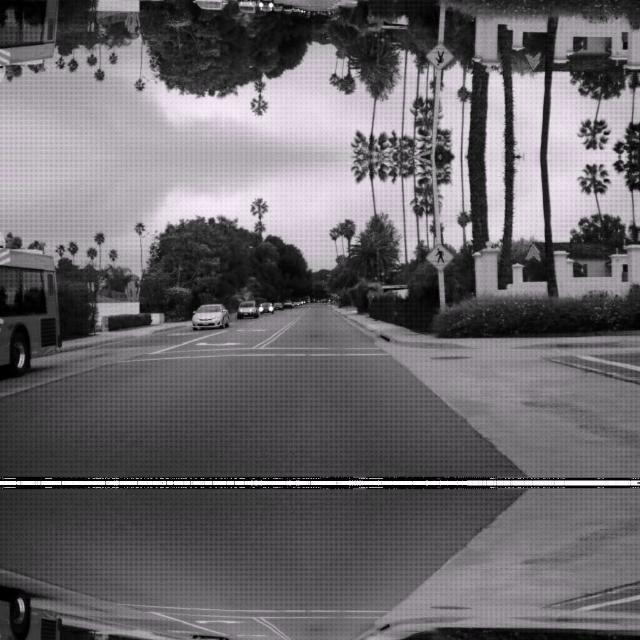pedestrianCrossing: (425, 241, 455, 271), (425, 41, 455, 71)
